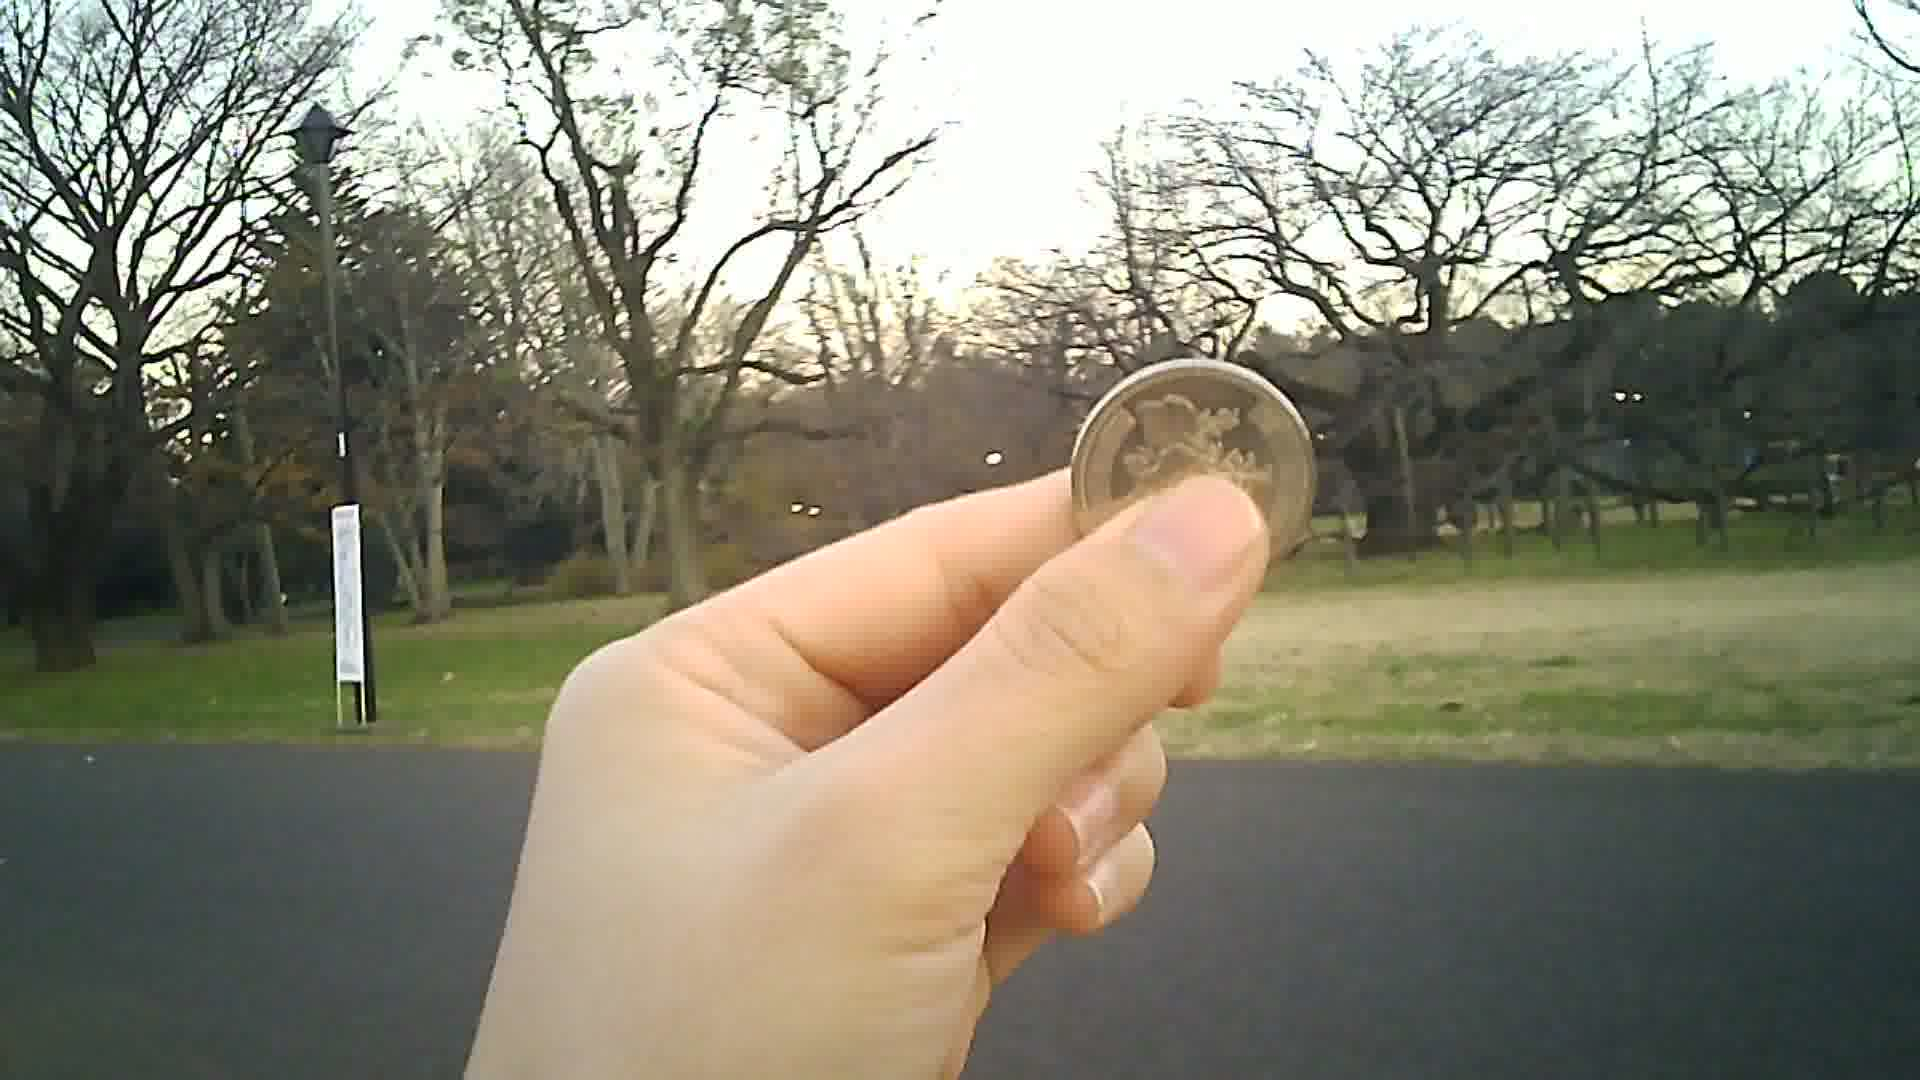500 Yen: (1059, 352, 1325, 583)
